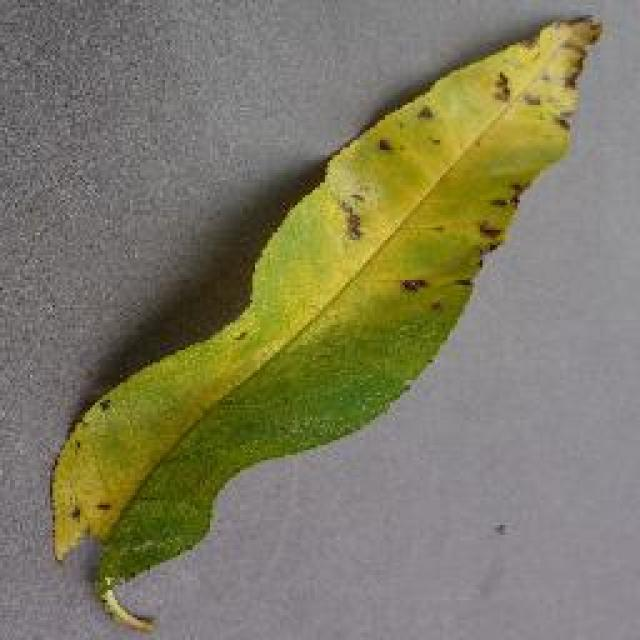Pea_Bacterial_spot: (393, 158, 552, 316), (476, 10, 616, 136)
